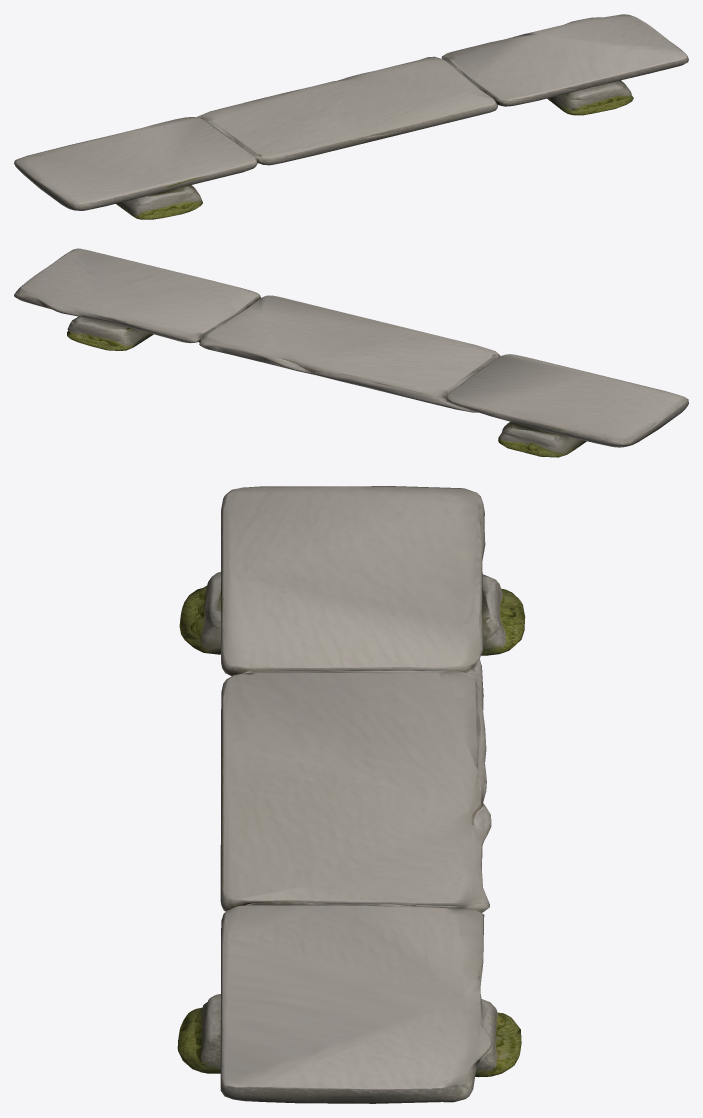
Rendered from bridge_stone_slab_deck2m.glb.
3 views of the same model, one above another, from view 1: azimuth 30°, elevation 25°; view 2: azimuth 150°, elevation 25°; view 3: azimuth 270°, elevation 25° (orthographic). The views are drawn at different scales.
Parts seen in each view (by area): view 1: node_0; view 2: node_0; view 3: node_0.
Part boxes in pixels (x1,y1,x2,y2): node_0: [14, 14, 688, 219]; node_0: [14, 248, 688, 457]; node_0: [177, 486, 525, 1103].
Bounding box in the file's own units: 11 × 0.4 × 2.67.
1 material, 1 textured.
